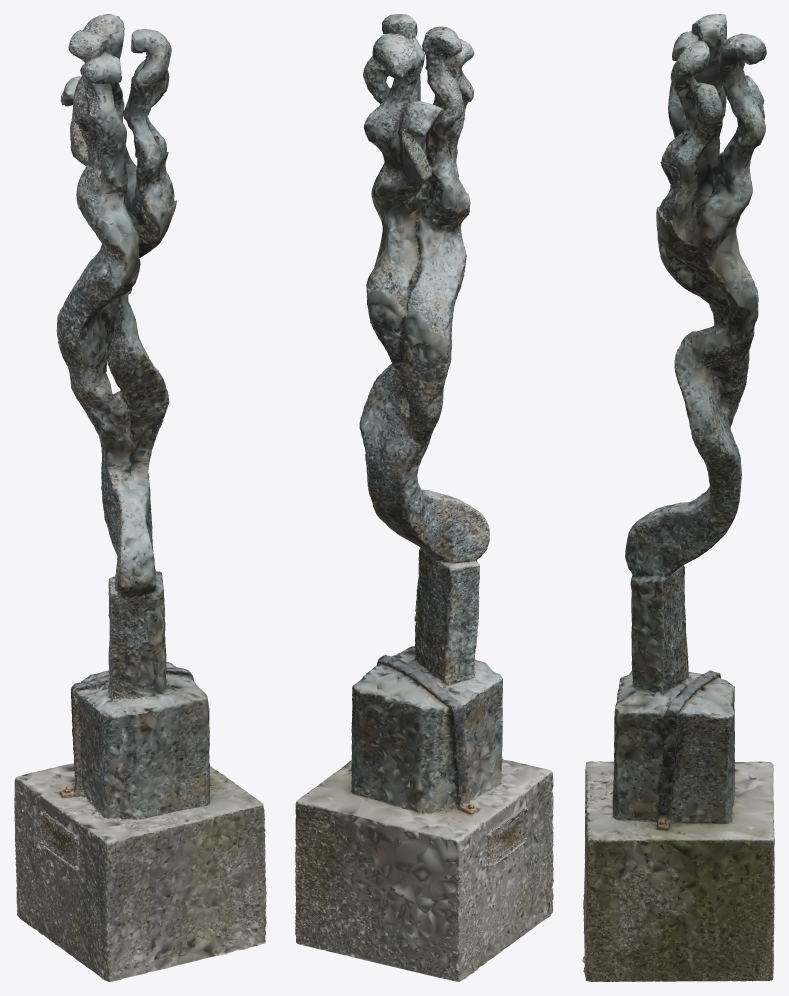
The model's file is preview.glb.
3 views of the same model, side by side, from view 1: azimuth 30°, elevation 25°; view 2: azimuth 150°, elevation 25°; view 3: azimuth 270°, elevation 25° (orthographic). The views are drawn at different scales.
Parts seen in each view (by area): view 1: Object_2; view 2: Object_2; view 3: Object_2.
Part boxes in pixels (x1,y1,x2,y2): Object_2: (14, 14, 266, 981); Object_2: (295, 14, 553, 981); Object_2: (582, 14, 774, 981).
Size of the model in its own units: 40.85 by 211 by 40.64.
